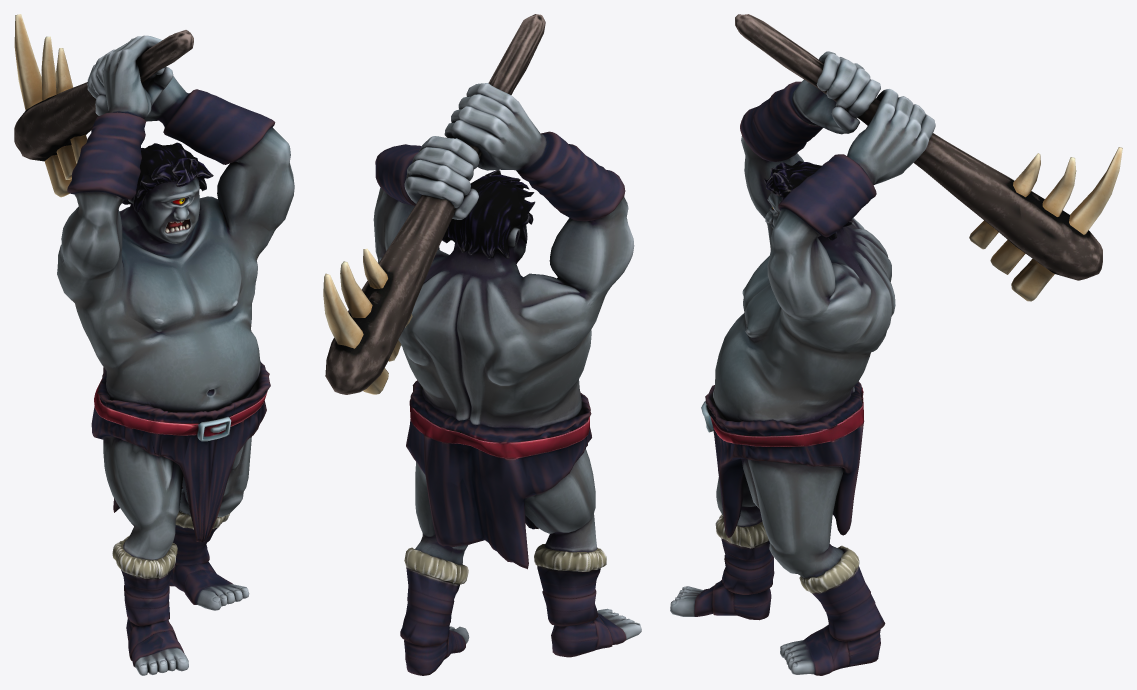
The model's file is Cyclops 02.glb.
3 views of the same model, side by side, from view 1: azimuth 30°, elevation 25°; view 2: azimuth 150°, elevation 25°; view 3: azimuth 270°, elevation 25° (orthographic). The views are drawn at different scales.
Parts seen in each view (by area): view 1: body_low.001, weapon_low.001; view 2: body_low.001, weapon_low.001; view 3: body_low.001, weapon_low.001.
Boxes of the visible parts, left/top/right/bottom form: body_low.001: left=57, top=35, right=294, bottom=675; weapon_low.001: left=14, top=14, right=193, bottom=197; body_low.001: left=373, top=83, right=641, bottom=675; weapon_low.001: left=323, top=14, right=545, bottom=394; body_low.001: left=670, top=51, right=935, bottom=675; weapon_low.001: left=735, top=14, right=1122, bottom=301.
Bounding box in the file's own units: 2.64 × 6.51 × 4.31.
1 material, 1 textured.
